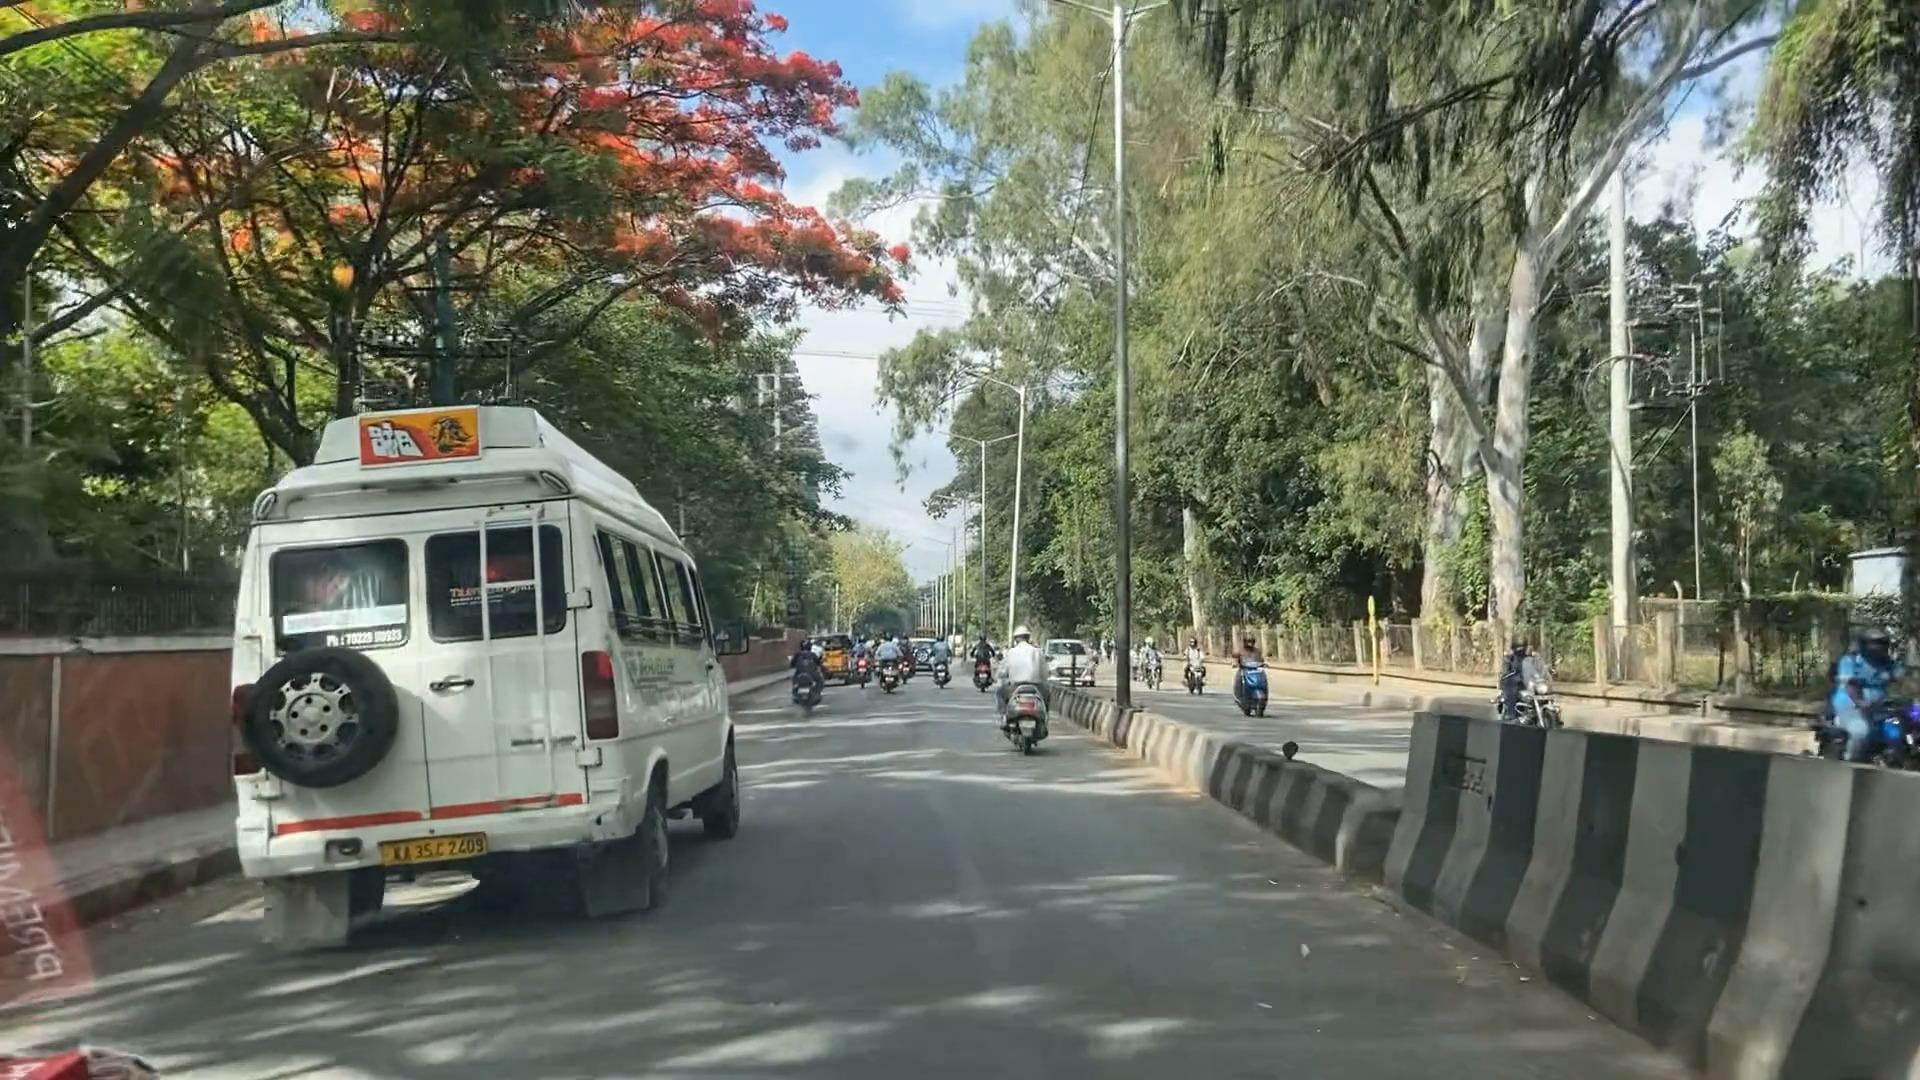HMV: (237, 498, 615, 907)
LMV: (992, 618, 1052, 746), (782, 634, 827, 720), (872, 630, 902, 694)
